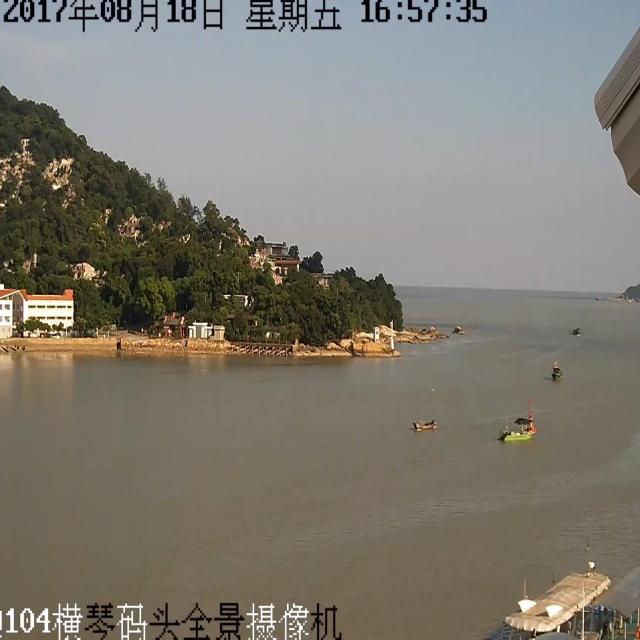fishing boat: (488, 408, 542, 450), (565, 304, 595, 352), (538, 352, 564, 391)
reef: (609, 269, 640, 306), (410, 406, 440, 437)
